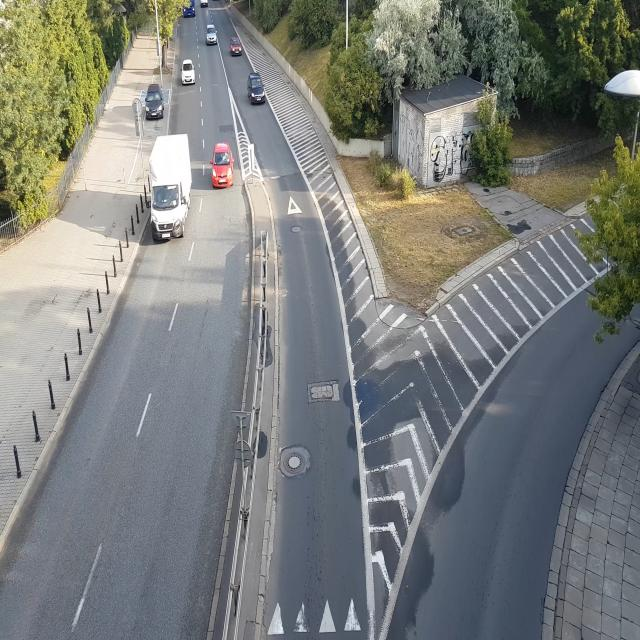car: (143, 131, 196, 249), (207, 139, 240, 196), (243, 71, 272, 111), (143, 80, 167, 121), (177, 56, 198, 89), (178, 0, 200, 21), (228, 36, 246, 59), (204, 24, 220, 46), (198, 0, 214, 14)
